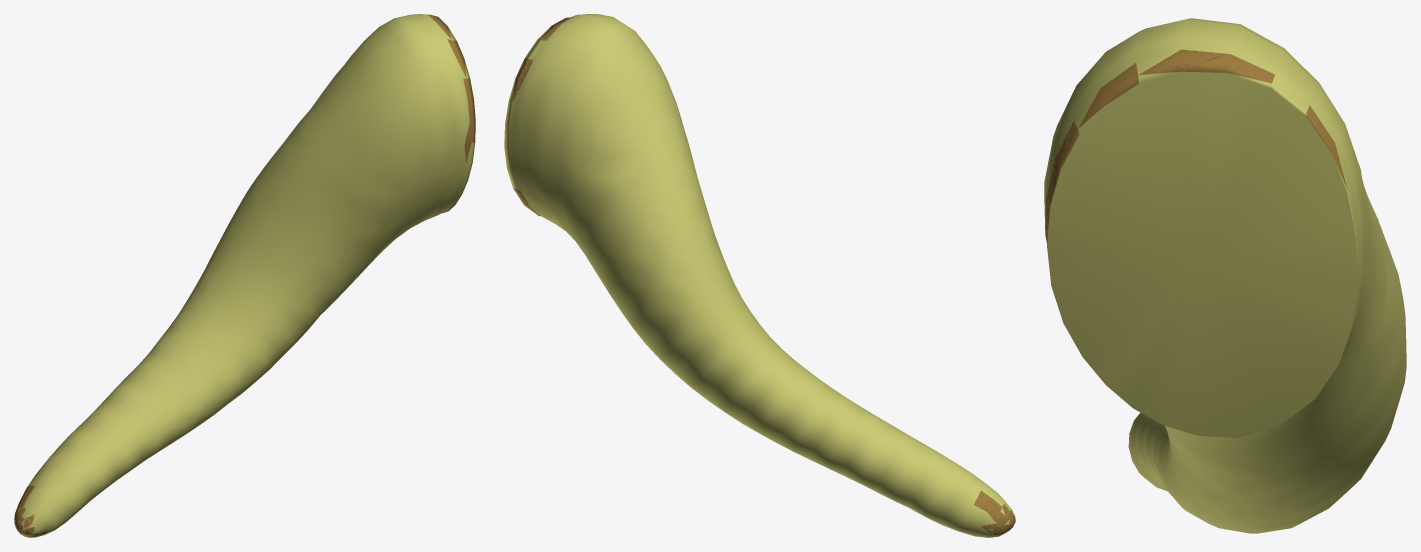
The model's file is princesaflama_brazoderecho.obj.
3 renders of one model, left to right at view 1: azimuth 30°, elevation 25°; view 2: azimuth 150°, elevation 25°; view 3: azimuth 270°, elevation 25°, orthographic. The views are drawn at different scales.
Visible parts, largest first — view 1: flameprincess.001; view 2: flameprincess.001; view 3: flameprincess.001.
Part boxes in pixels (x1,y1,x2,y2): flameprincess.001: (14, 14, 475, 537); flameprincess.001: (504, 14, 1015, 537); flameprincess.001: (1044, 18, 1406, 533).
Size of the model in its own units: 1.3 by 1.14 by 0.4526.
1 material, 1 textured.
